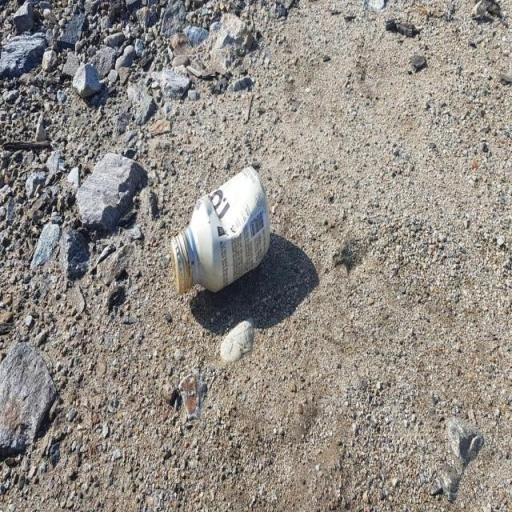metal: (161, 136, 278, 322)
